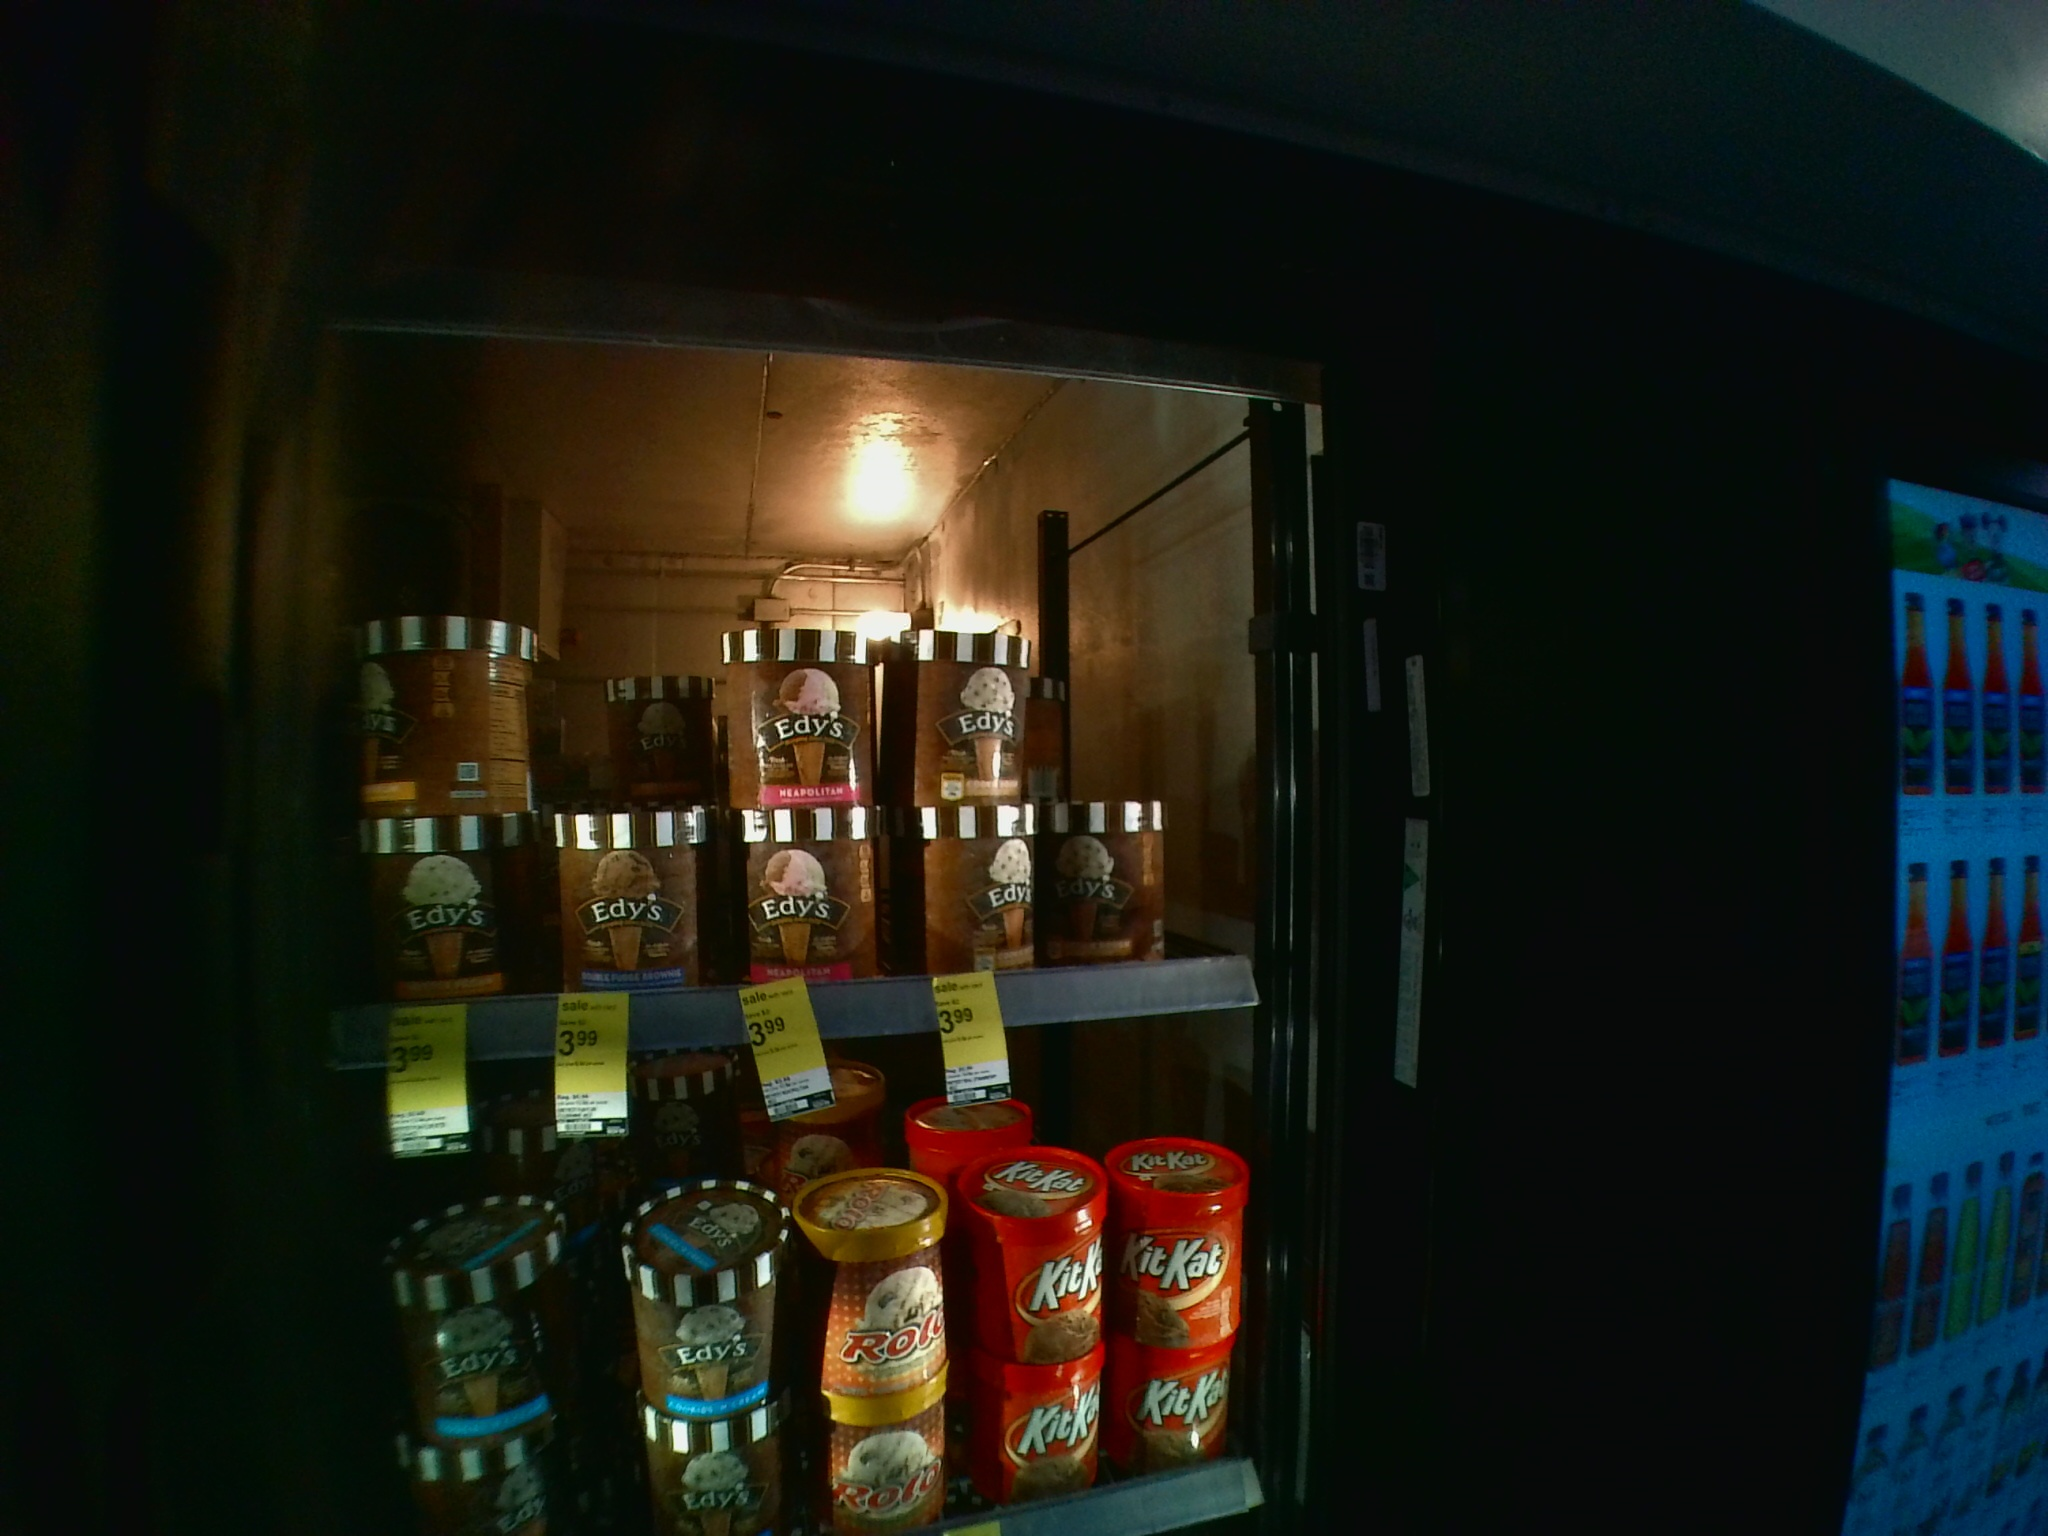shelf: (314, 411, 1256, 1007), (318, 1026, 1253, 1505)
